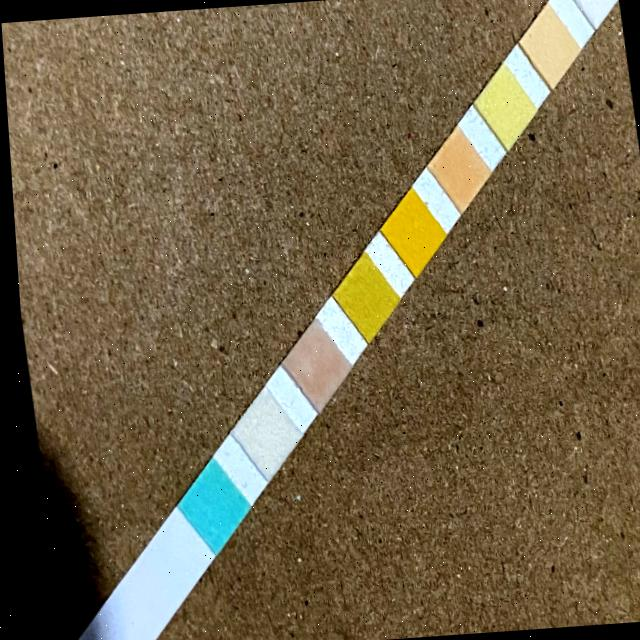Bilirubin: (241, 403, 280, 459)
Blood: (392, 204, 428, 258)
Glucose: (188, 474, 228, 532)
Ketone: (292, 334, 331, 392)
Nitrite: (575, 0, 611, 9)
Protein: (485, 79, 521, 131)
SpGravity: (341, 271, 382, 321)
Urobilinogen: (530, 19, 566, 70)
pH: (438, 141, 472, 197)
